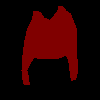felpa: (21, 6, 78, 85)
